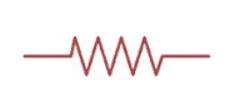resistor: (57, 32, 183, 80)
